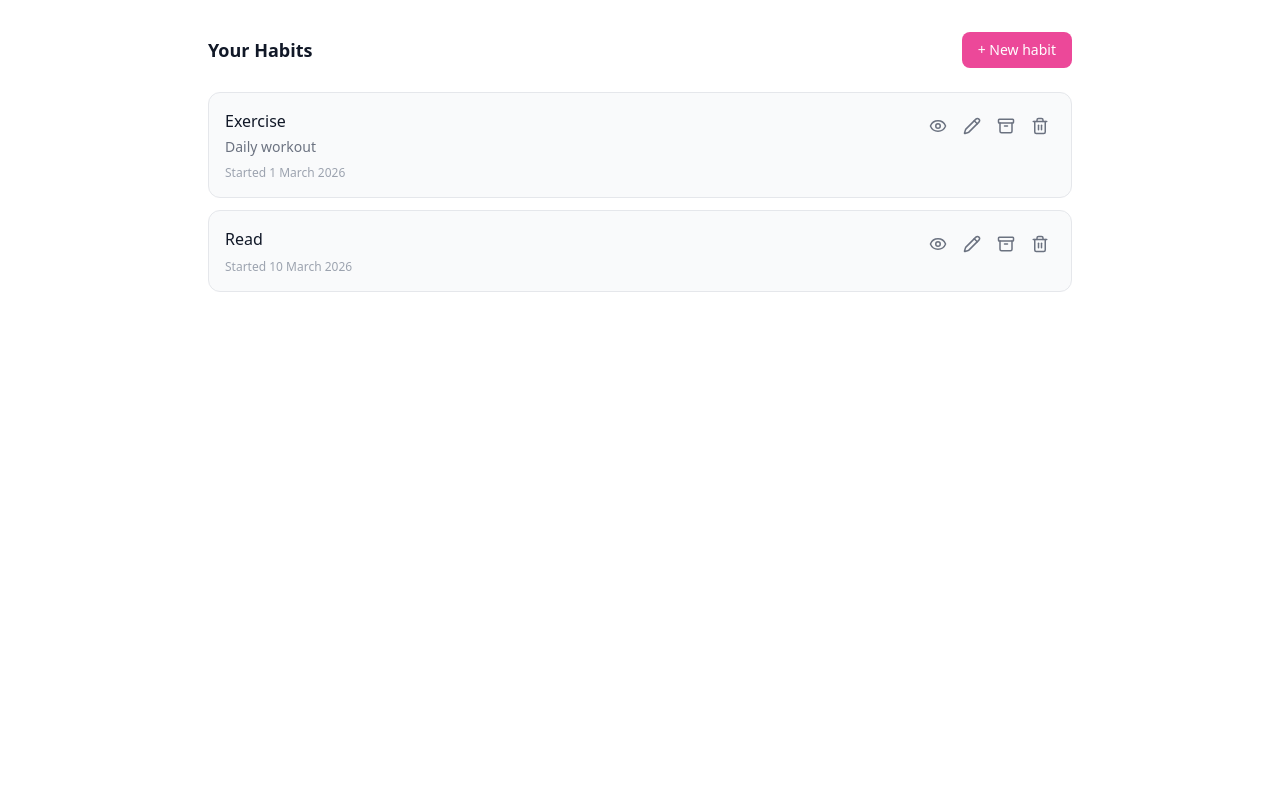
it: HabitListPage › opens delete modal from habit card Delete button
The width and height of the screenshot is (1280, 800).
expect the link "Exercise" is shown: met, box [225,110,286,132]
Click the button named "delete exercise": point(1040, 126) [1025,111,1055,141]
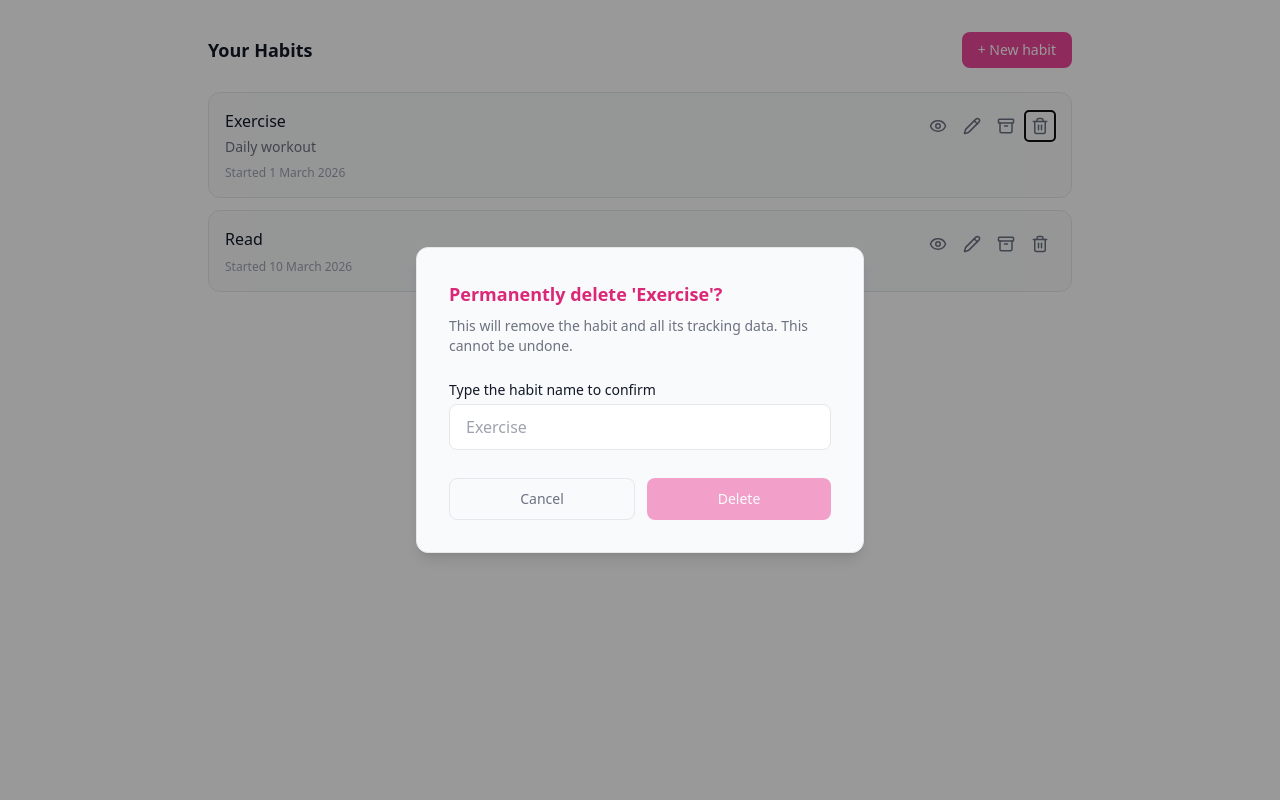
expect the dialog is shown: met, box [416,247,864,553]
